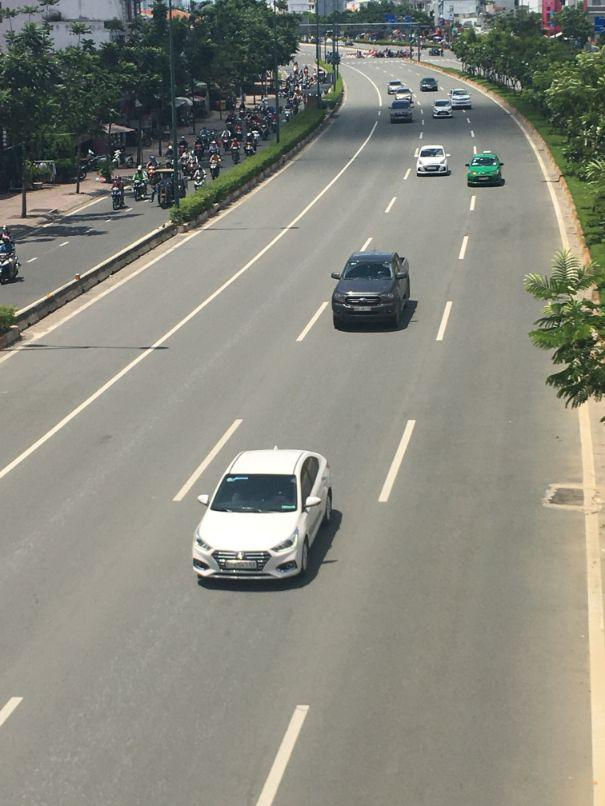car: (191, 448, 338, 587), (332, 249, 416, 333), (466, 151, 504, 189), (418, 147, 451, 177), (389, 99, 414, 124), (451, 89, 472, 112), (434, 101, 455, 119), (420, 77, 438, 93)
